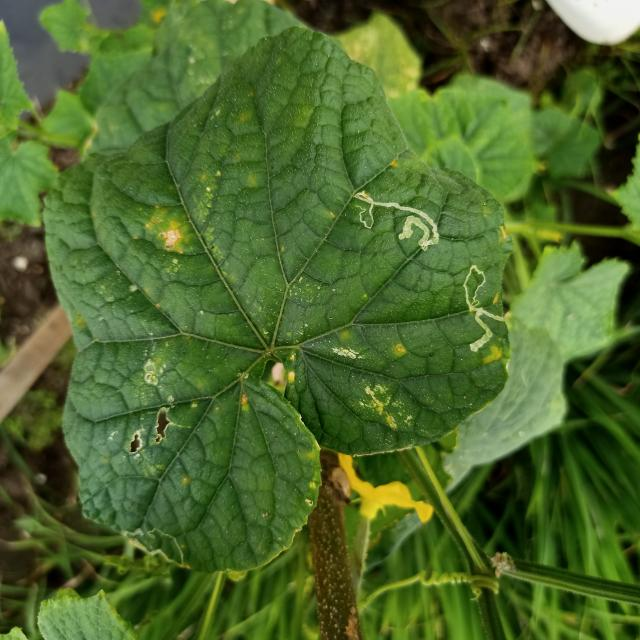disease_cucumber: (128, 356, 178, 463), (136, 203, 190, 262), (361, 379, 416, 430), (325, 334, 370, 366), (494, 218, 514, 250), (481, 340, 505, 366), (284, 350, 302, 382), (236, 384, 252, 414), (391, 336, 409, 360)
